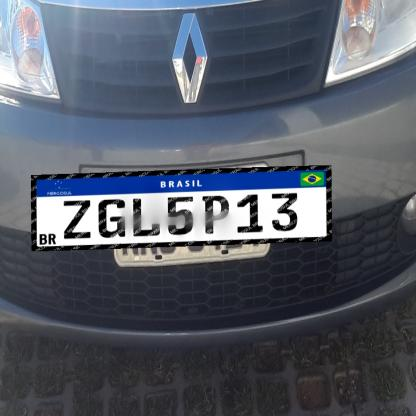PlacaM: (31, 166, 332, 252)
